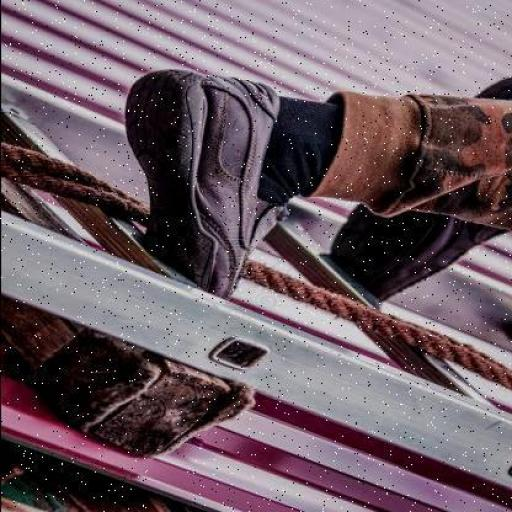safety_shoe: (127, 73, 280, 293)
